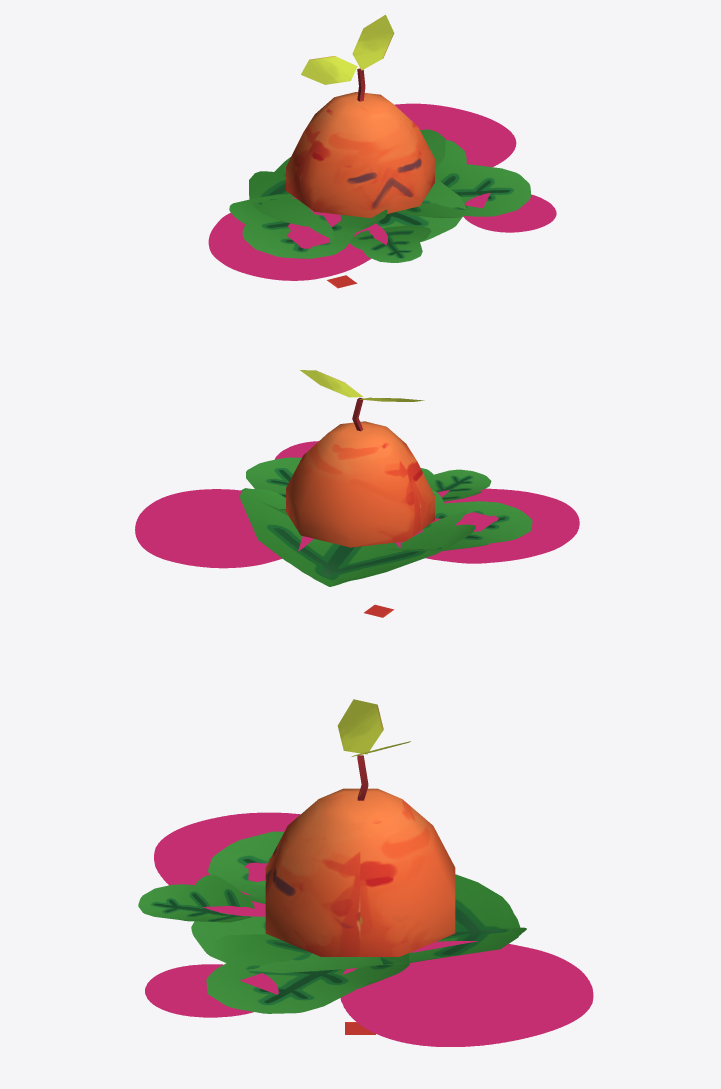
Rendered from DishPotato.fbx.
3 views of the same model, one above another, from view 1: azimuth 30°, elevation 25°; view 2: azimuth 150°, elevation 25°; view 3: azimuth 270°, elevation 25° (orthographic). The views are drawn at different scales.
Parts seen in each view (by area): view 1: GEOPotato2, GEOPinkBlob2, GEOSaladLeave1, GEOSaladLeave3, GEOSaladLeave4, GEOSaladLeave5; view 2: GEOPotato2, GEOPinkBlob2, GEOSaladLeave1, GEOSaladLeave4, GEOSaladLeave5, GEOSaladLeave3; view 3: GEOPotato2, GEOPinkBlob2, GEOSaladLeave3, GEOSaladLeave1, GEOSaladLeave5, GEOSaladLeave4.
Boxes of the visible parts, x1=… form: GEOPotato2: x1=286, y1=14, x2=434, y2=288; GEOPinkBlob2: x1=208, y1=103, x2=556, y2=280; GEOSaladLeave1: x1=249, y1=129, x2=466, y2=243; GEOSaladLeave3: x1=398, y1=140, x2=530, y2=217; GEOSaladLeave4: x1=229, y1=194, x2=387, y2=258; GEOSaladLeave5: x1=349, y1=225, x2=431, y2=262; GEOPotato2: x1=286, y1=370, x2=434, y2=617; GEOPinkBlob2: x1=135, y1=441, x2=579, y2=568; GEOSaladLeave1: x1=239, y1=488, x2=475, y2=586; GEOSaladLeave4: x1=388, y1=490, x2=532, y2=550; GEOSaladLeave5: x1=421, y1=468, x2=491, y2=501; GEOSaladLeave3: x1=241, y1=457, x2=301, y2=515; GEOPotato2: x1=265, y1=699, x2=455, y2=1034; GEOPinkBlob2: x1=145, y1=812, x2=593, y2=1046; GEOSaladLeave3: x1=206, y1=934, x2=409, y2=1013; GEOSaladLeave1: x1=191, y1=874, x2=526, y2=973; GEOSaladLeave5: x1=138, y1=875, x2=254, y2=922; GEOSaladLeave4: x1=208, y1=831, x2=284, y2=903.
Size of the model in its own units: 291 by 152 by 291.
